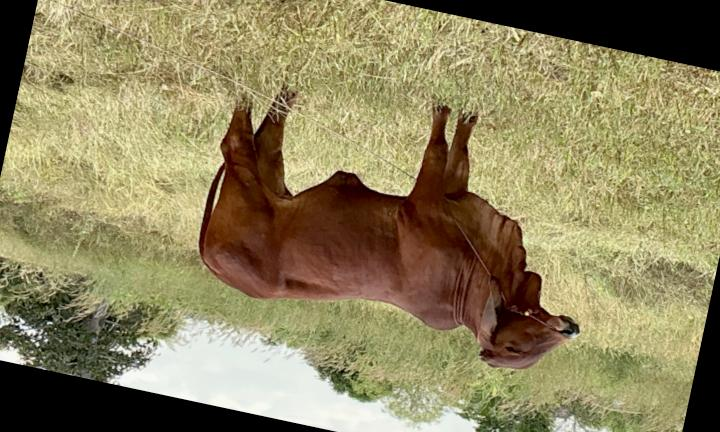Brahman: (200, 92, 580, 369)
